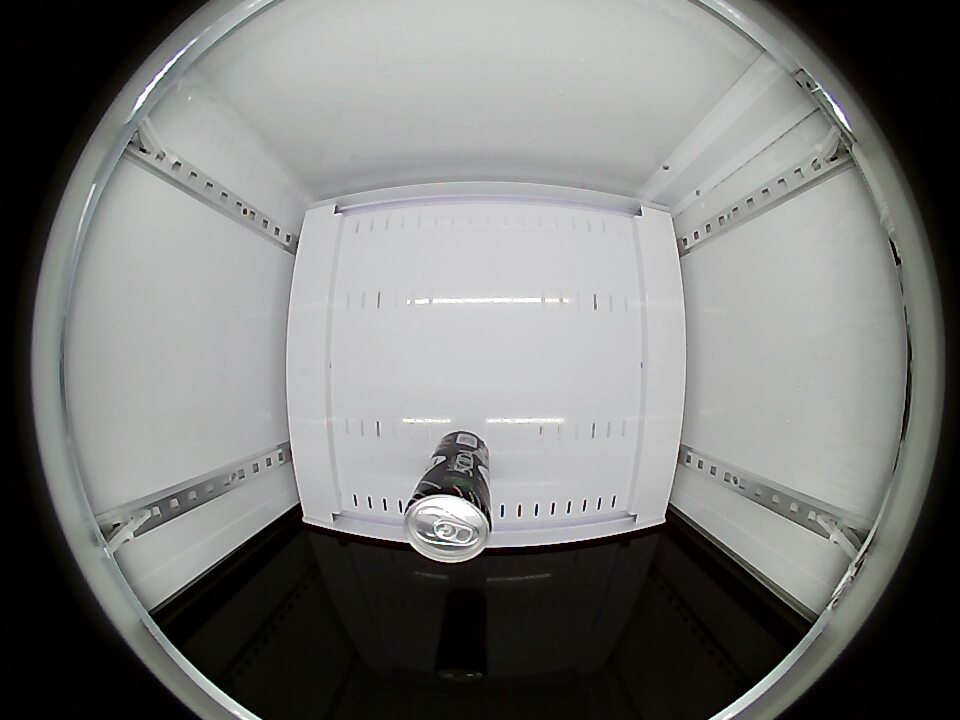qingdaowangzi-1: (403, 476, 493, 563)
